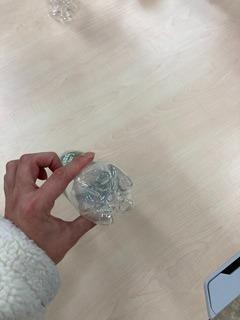BIODEGRADABLE: (55, 144, 136, 232)
